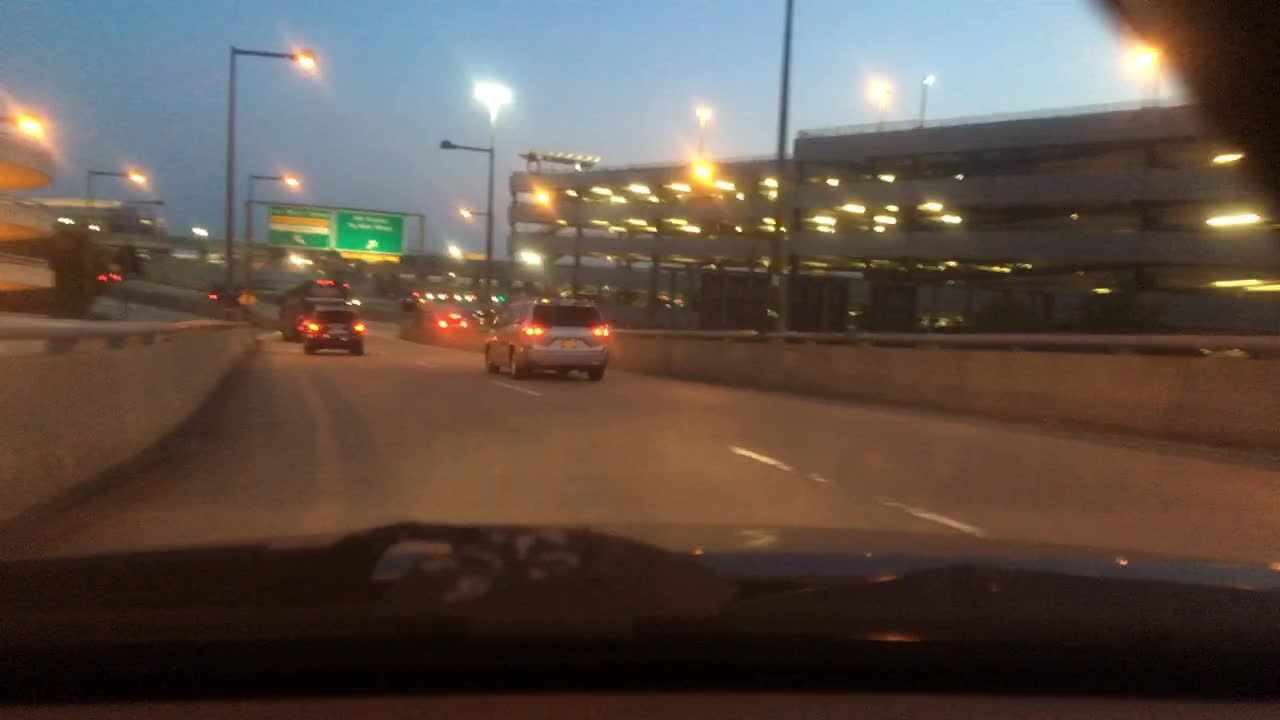bus: (278, 280, 359, 338)
car: (481, 296, 609, 381), (305, 305, 367, 356), (207, 284, 257, 305), (429, 305, 471, 329), (471, 308, 507, 329), (95, 262, 125, 282), (400, 292, 435, 307), (670, 293, 694, 311), (649, 292, 673, 310), (841, 311, 863, 329), (928, 314, 958, 326), (481, 293, 511, 305), (766, 301, 779, 327), (913, 311, 931, 329), (432, 290, 451, 302), (457, 292, 475, 302)
traffic sign: (333, 211, 402, 259), (266, 203, 332, 248)
